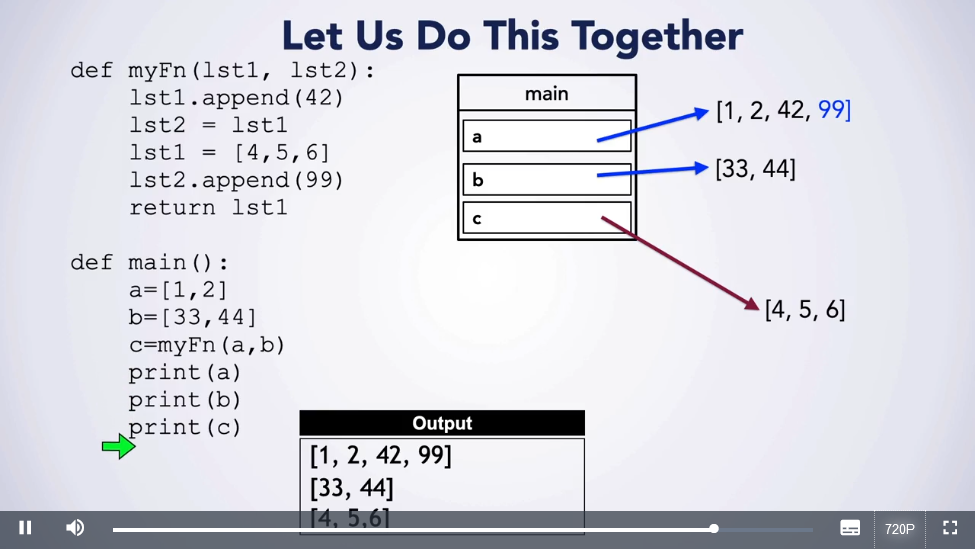code block: (68, 56, 377, 468)
figure: (453, 69, 865, 335), (299, 404, 589, 540)
text: (278, 12, 748, 64)
